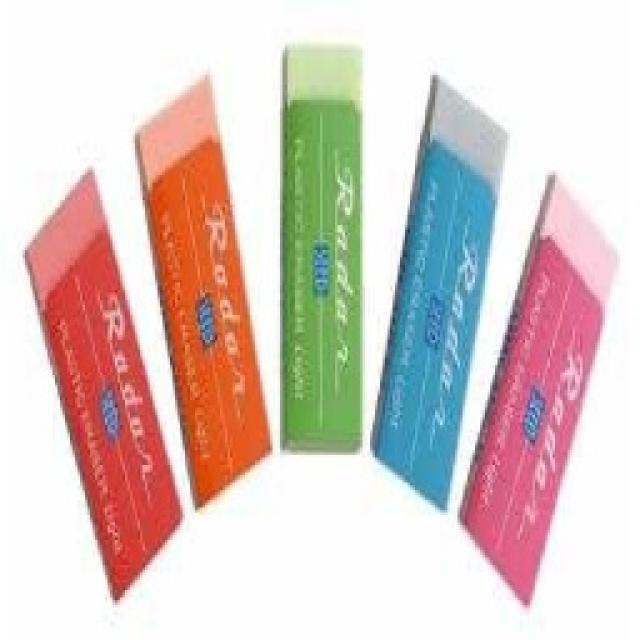Silgi: (19, 163, 186, 603)
